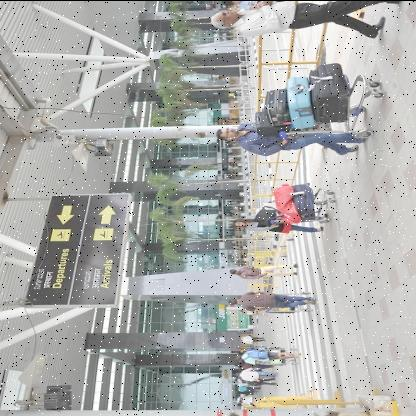airport-trolley: (275, 68, 387, 139), (270, 184, 341, 226), (264, 290, 314, 312), (260, 346, 298, 365)
